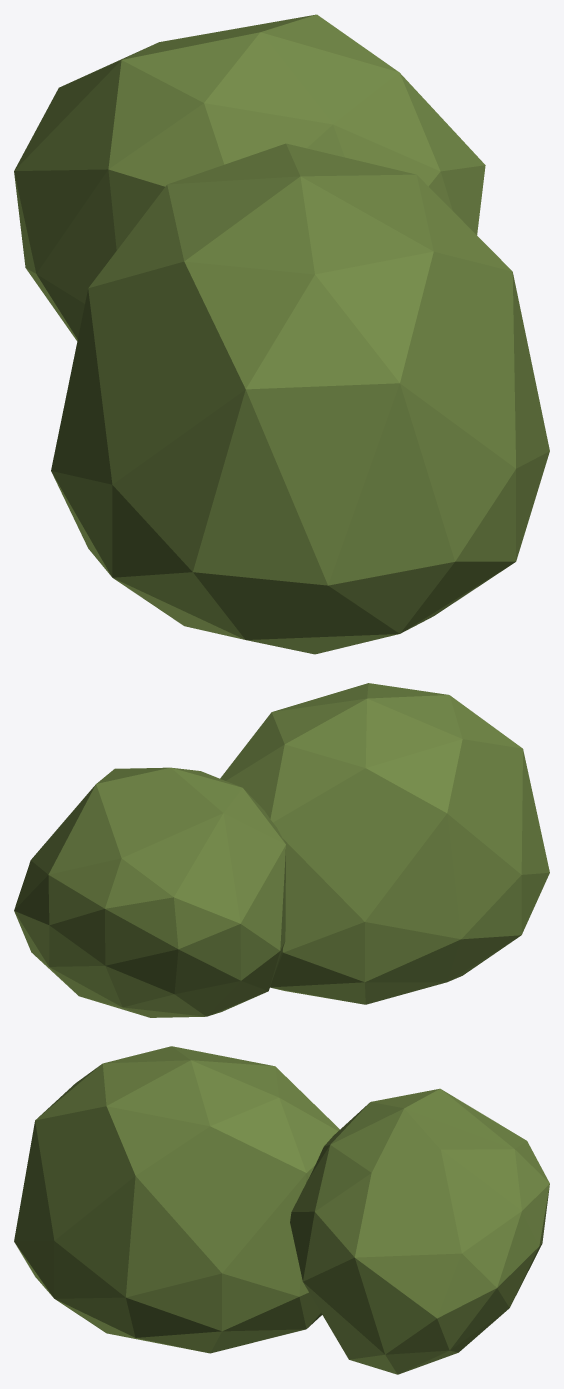
Rendered from bush_green_3.glb.
The picture shows the model from 3 angles, top to bottom: view 1: azimuth 30°, elevation 25°; view 2: azimuth 150°, elevation 25°; view 3: azimuth 270°, elevation 25°; orthographic projection. The views are drawn at different scales.
Parts seen in each view (by area): view 1: Liurnia Bushes.001; view 2: Liurnia Bushes.001; view 3: Liurnia Bushes.001.
Part boxes in pixels (x1,y1,x2,y2): Liurnia Bushes.001: [14, 14, 549, 654]; Liurnia Bushes.001: [14, 683, 549, 1017]; Liurnia Bushes.001: [14, 1046, 549, 1374].
Size of the model in its own units: 0.0586 by 0.0441 by 0.079.
